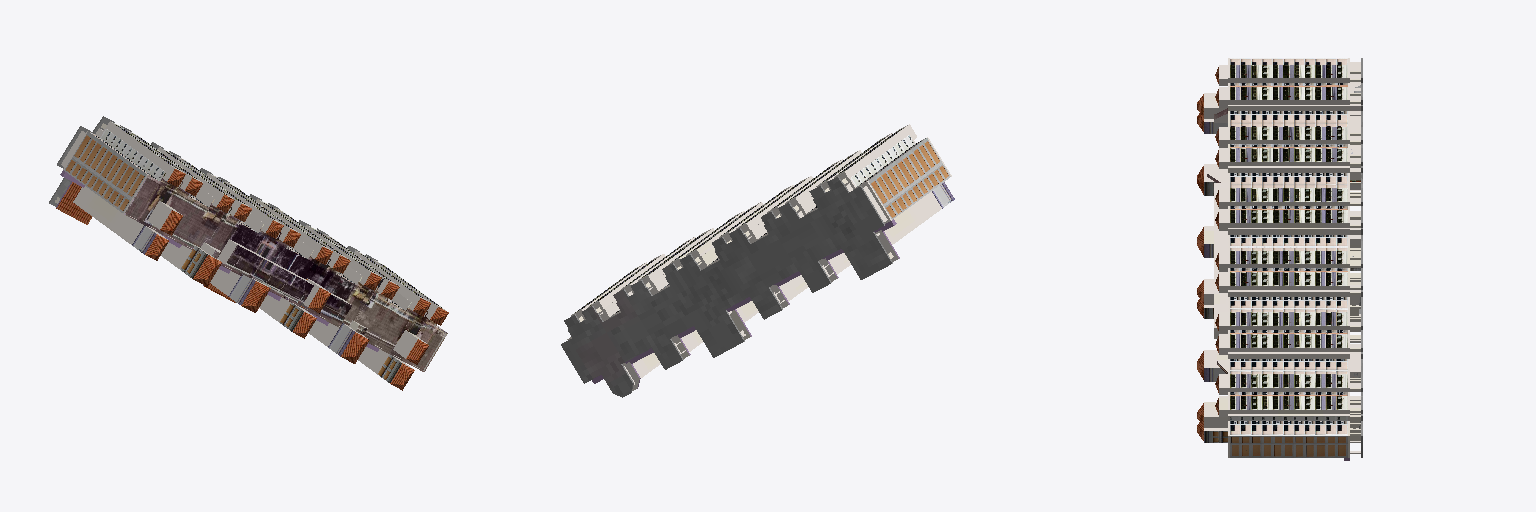
3 renders of one model, left to right at view 1: azimuth 30°, elevation 25°; view 2: azimuth 150°, elevation 25°; view 3: azimuth 270°, elevation 25°, orthographic.
Parts seen in each view (by area): view 1: polygon.763; view 2: polygon.763; view 3: polygon.763.
Part boxes in pixels (left/top/right/bottom): polygon.763: left=49, top=116, right=448, bottom=390; polygon.763: left=561, top=124, right=954, bottom=397; polygon.763: left=1197, top=58, right=1362, bottom=460.
Bounding box in the file's own units: 98.18 × 77.4 × 42.59.
1 materials, 1 textured.